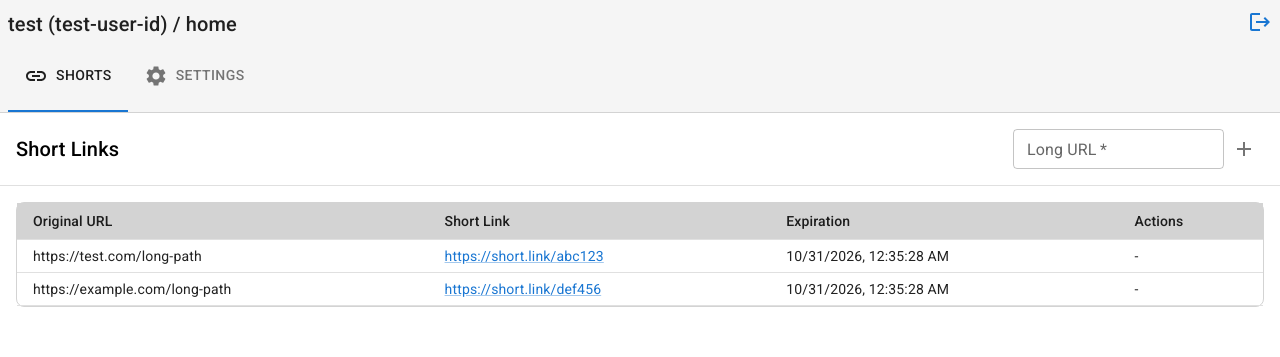
Test case: home component › when on the default view: shorts › given some existent shorts › when creating a new short with success › should generate a short link
Type "http://localhost:3000/long_path?title=long" into the field labelled "Long URL". click: (1118, 149)
box: [1013,129,1224,169]
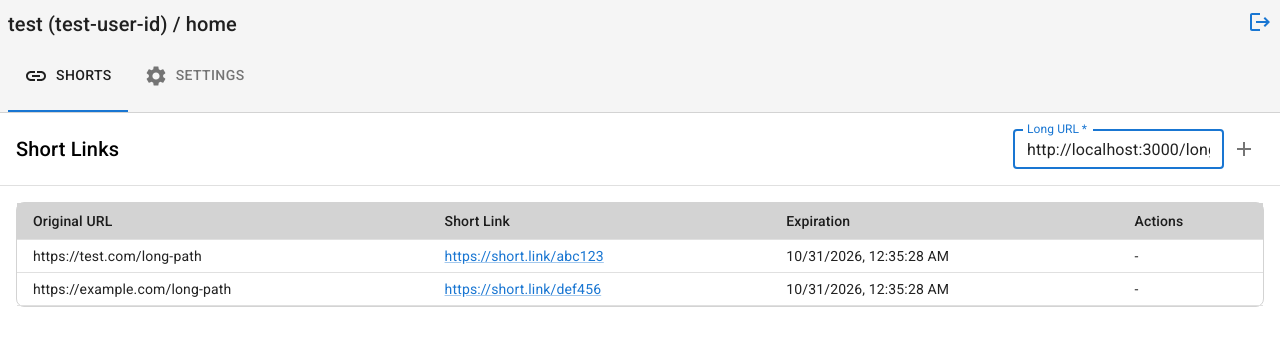
Click the button. click: (1244, 149)
box: [1224,129,1264,169]
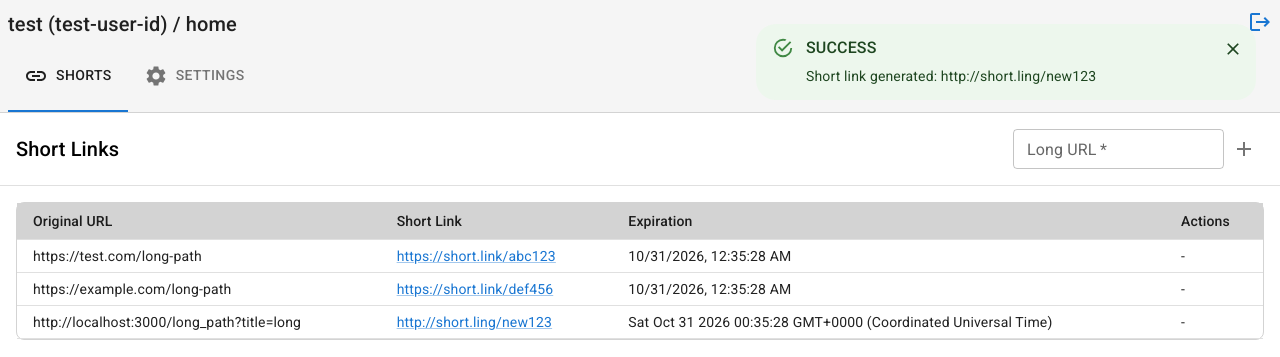
Check: the text "SUCCESS Short link generated: http://short.ling/new123" is shown, box [806,30,1096,94]
